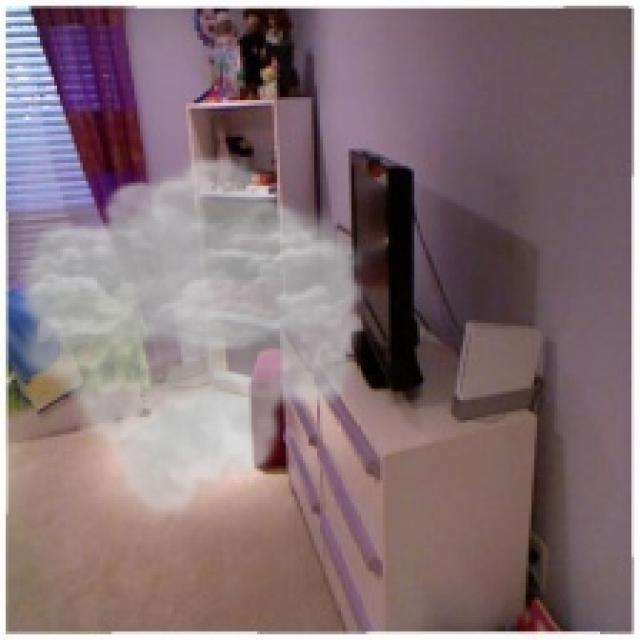Smoke: (8, 151, 374, 523)
